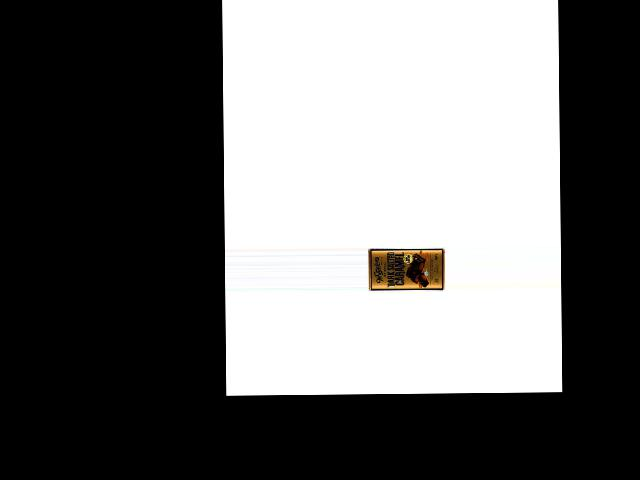chocolate: (369, 244, 446, 292)
